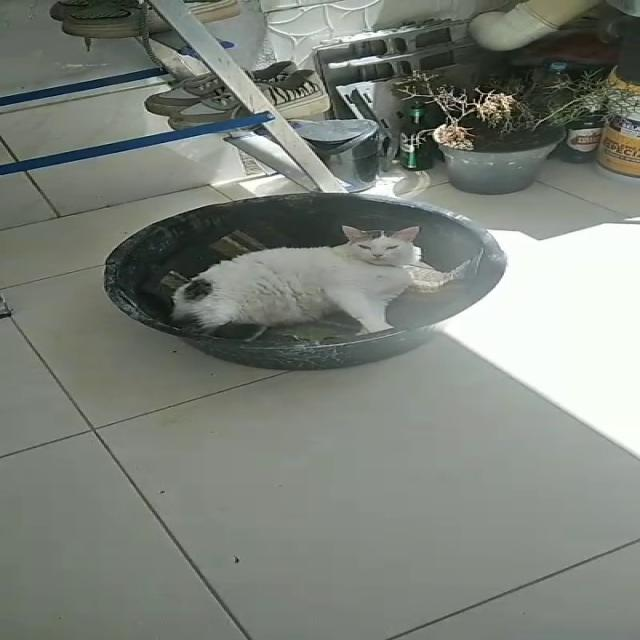Simba: (196, 224, 524, 346)
